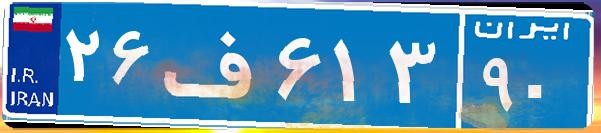0: (525, 38, 570, 115)
1: (330, 28, 385, 110)
2: (57, 26, 110, 107)
3: (385, 28, 445, 110)
6: (273, 28, 330, 110), (110, 28, 158, 105)
9: (475, 38, 525, 113)
ف: (158, 15, 273, 115)
